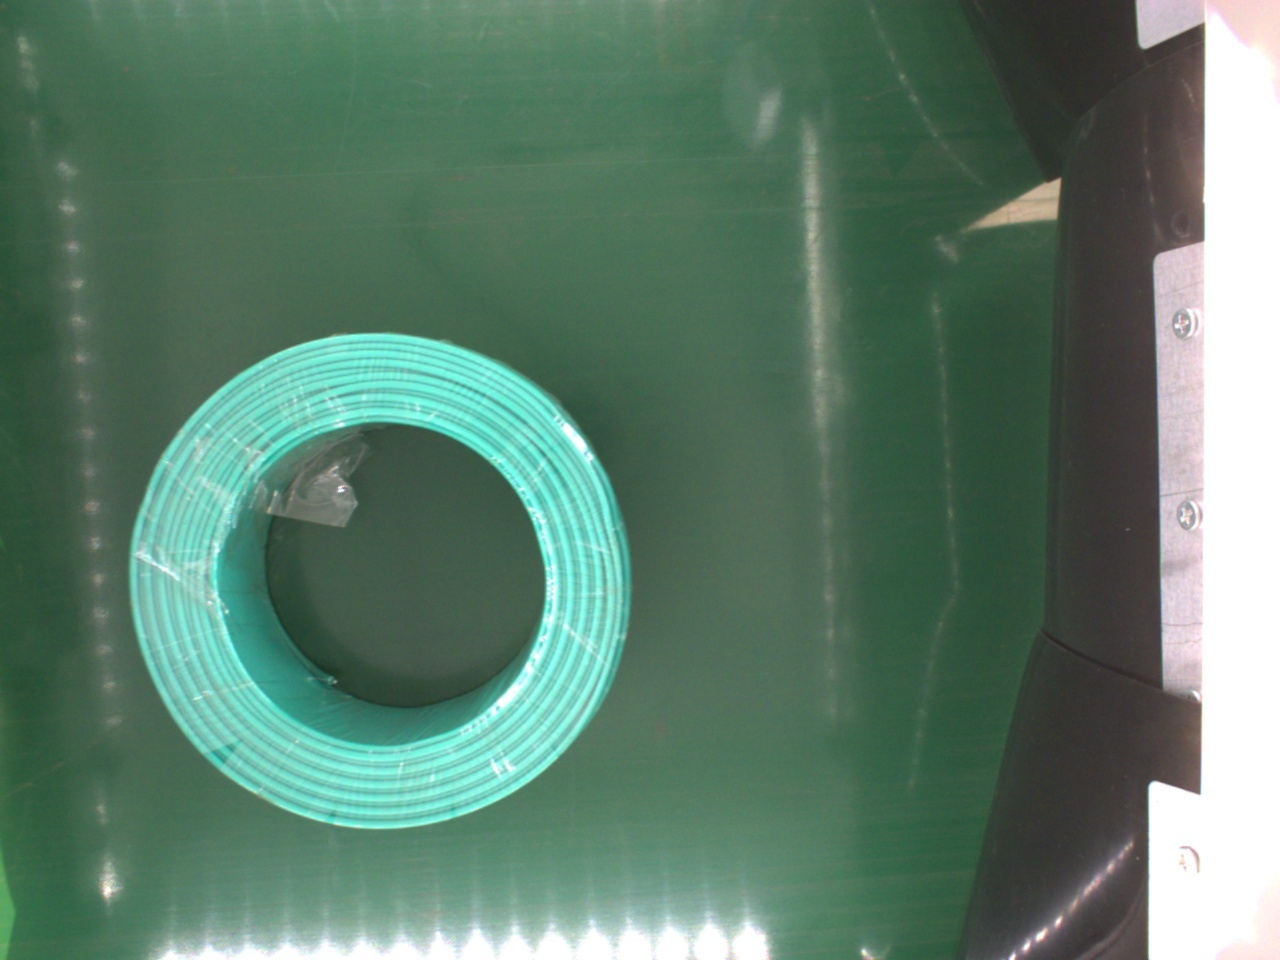green: (128, 333, 632, 833)
